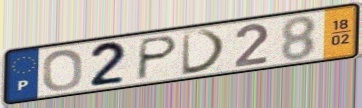2: (87, 39, 131, 91), (232, 22, 270, 69)
8: (279, 13, 320, 62)
D: (179, 28, 229, 78)
O: (41, 48, 85, 93)
P: (134, 34, 181, 83)
